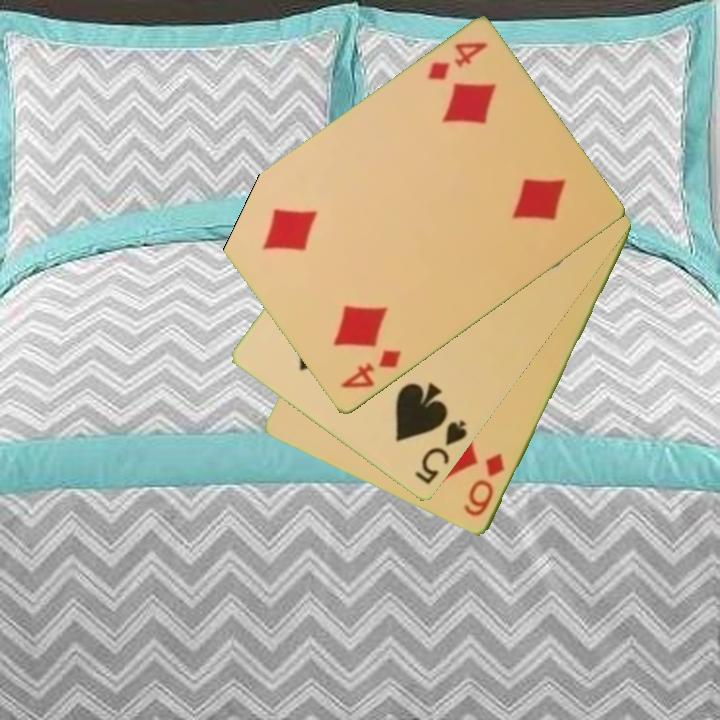4d: (337, 346, 405, 392), (424, 39, 491, 85)
5s: (411, 416, 471, 488)
6d: (460, 450, 508, 521)
